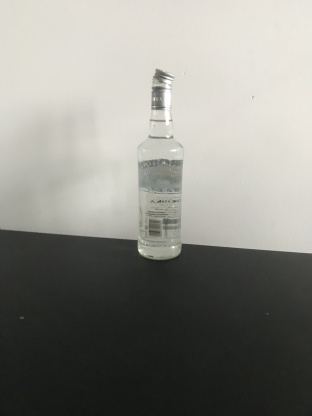nakretka: (149, 66, 176, 110)
